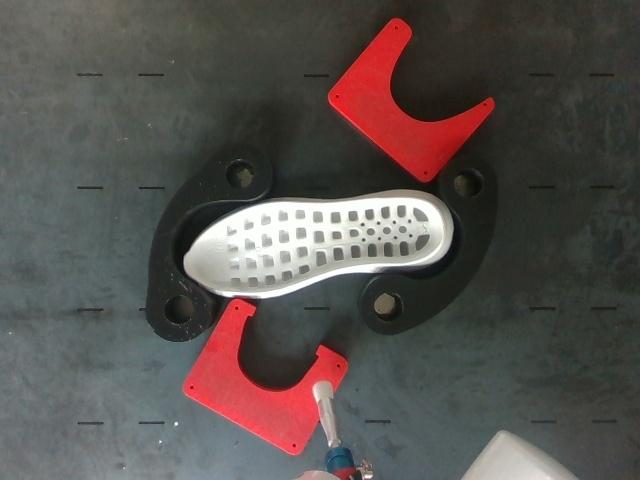shoes: (185, 198, 442, 293)
